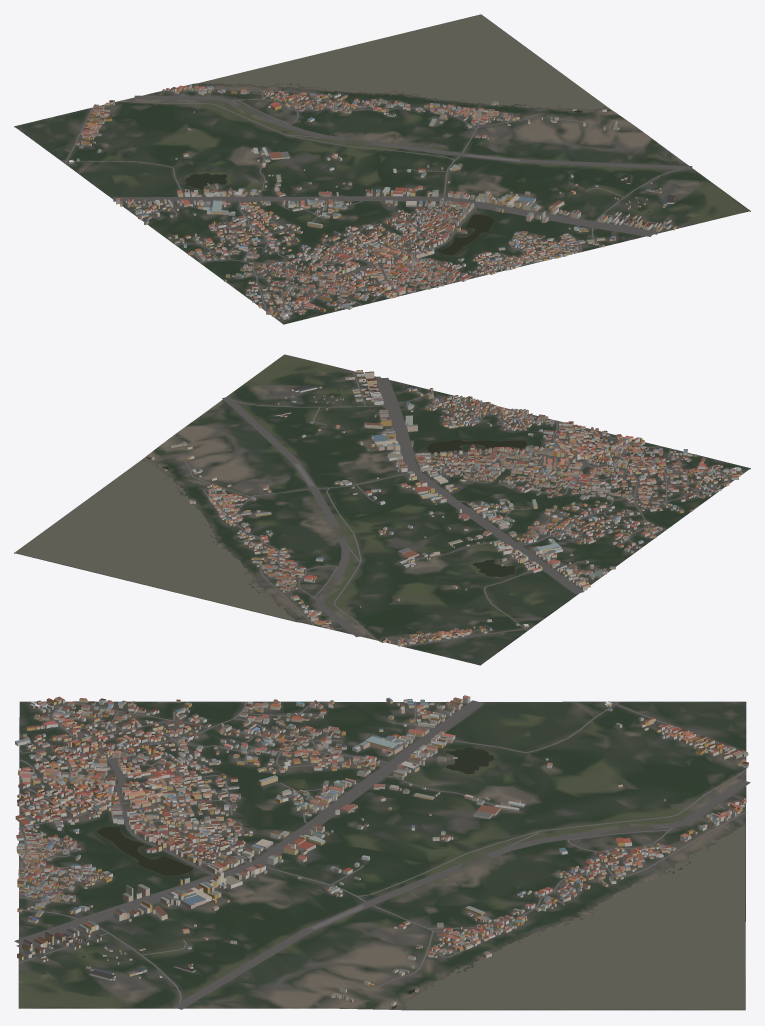
3 views of the same model, one above another, from view 1: azimuth 30°, elevation 25°; view 2: azimuth 150°, elevation 25°; view 3: azimuth 270°, elevation 25° (orthographic). The views are drawn at different scales.
Visible parts, largest first — view 1: ground, buildings, water, roads; view 2: ground, buildings, water, roads; view 3: ground, buildings, water, roads.
Part boxes in pixels (x1,y1,x2,y2): ground: (14, 14, 750, 324); buildings: (69, 85, 676, 319); water: (184, 14, 649, 255); roads: (61, 87, 692, 317); ground: (14, 354, 750, 665); buildings: (150, 370, 742, 646); water: (15, 390, 527, 621); roads: (184, 371, 741, 646); ground: (18, 701, 746, 1010); buildings: (15, 695, 748, 1006); water: (82, 747, 745, 1009); roads: (14, 700, 750, 1009).
Bounding box in the file's own units: 1413 × 33.5 × 1421.
